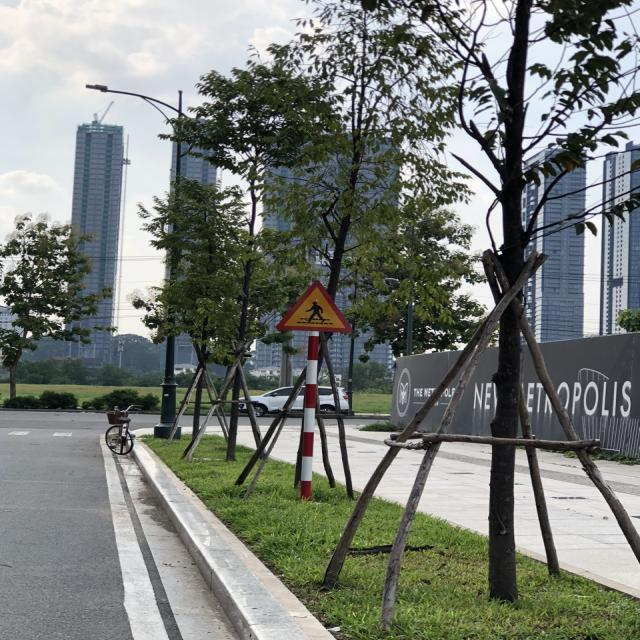Bien bao duong nguoi di bo cat ngang: (268, 272, 360, 338)
